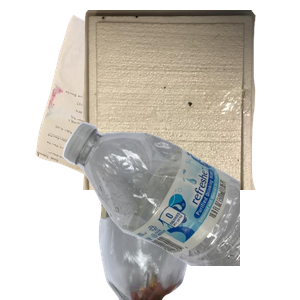glass: (96, 120, 283, 300)
paper: (33, 12, 214, 192)
plastic: (60, 120, 300, 300)
trash: (80, 10, 300, 190)
